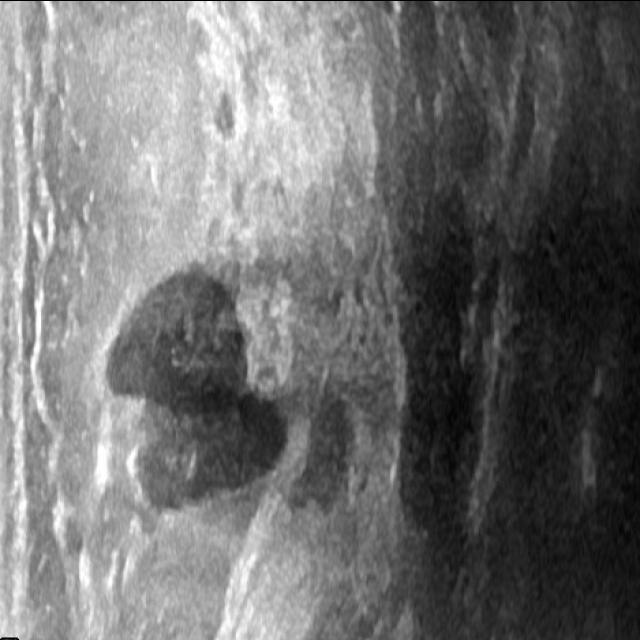Benign: (110, 271, 284, 493)
